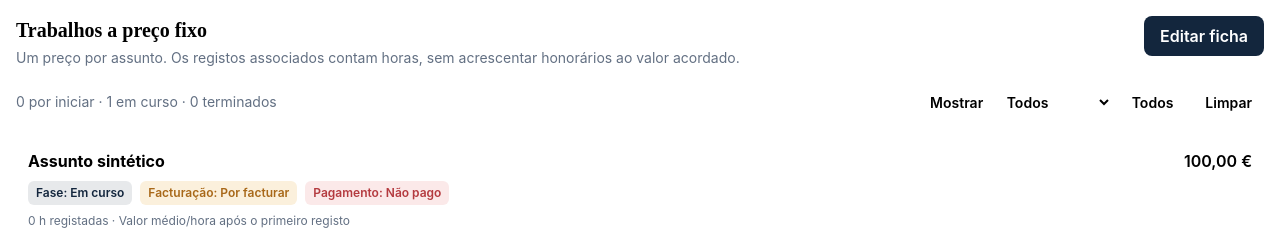
Test: Limpar deixa zero trabalhos e Todos restaura sem modificar dados
The width and height of the screenshot is (1280, 245).
Check: the text "Assunto sintético" is shown, box [28,148,165,172]
What coordinates should you click on to do the following:
click the button "Limpar"
I would click on:
 (1229, 102)
Its box is [1193,84,1264,120].
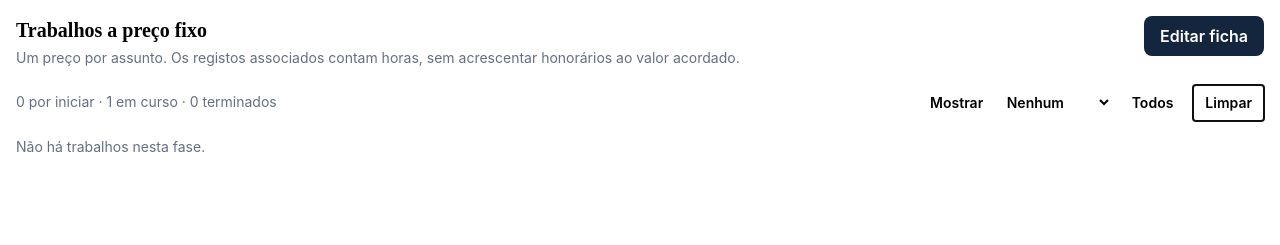
Check: the dropdown shows "Nenhum", box [995,84,1112,120]
Check: the button "Assunto sintético" is gone
What coordinates should you click on to do the following:
click the button "Todos"
I would click on:
 (1152, 102)
Its box is [1120,84,1185,120].
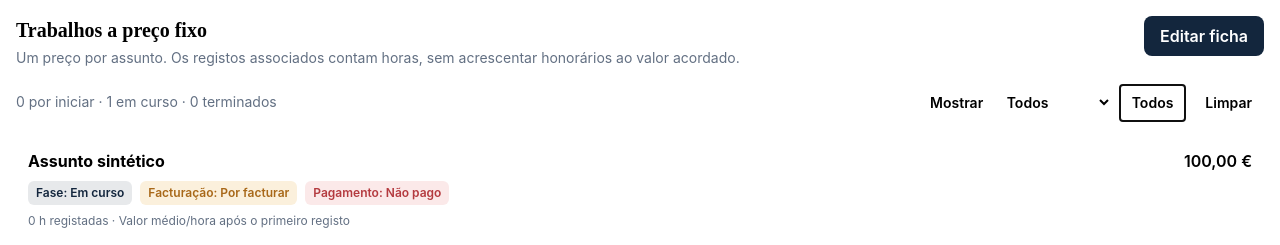
Check: the text "Assunto sintético" is shown, box [28,148,165,172]
